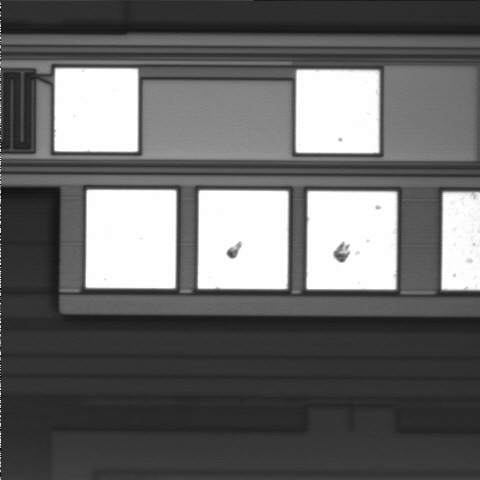pad: (198, 190, 288, 289), (86, 190, 176, 288), (307, 191, 397, 289), (55, 68, 138, 152), (296, 70, 379, 153)
